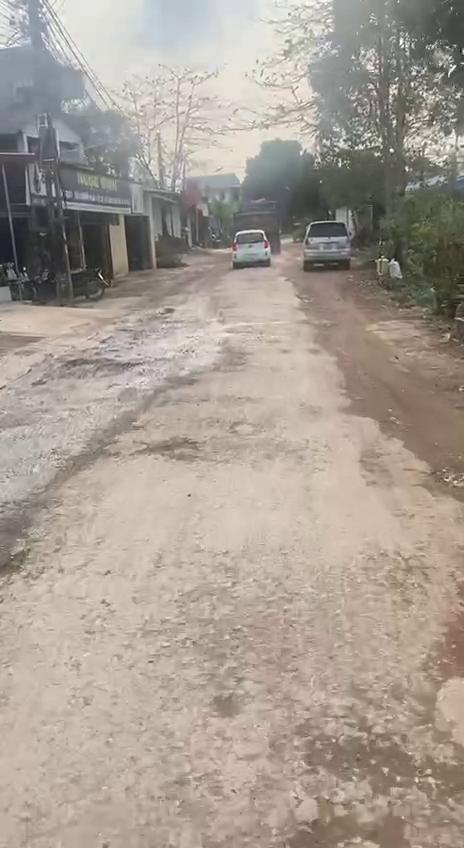pothole: (272, 707, 464, 848), (150, 436, 209, 464), (0, 540, 32, 588)
